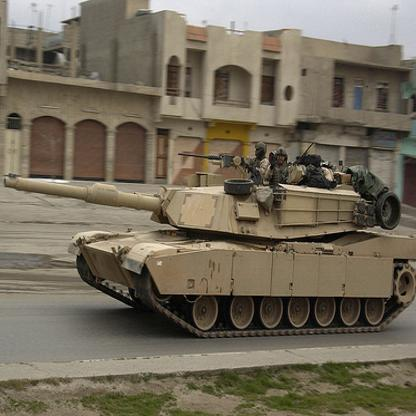Tank: (4, 139, 416, 342)
